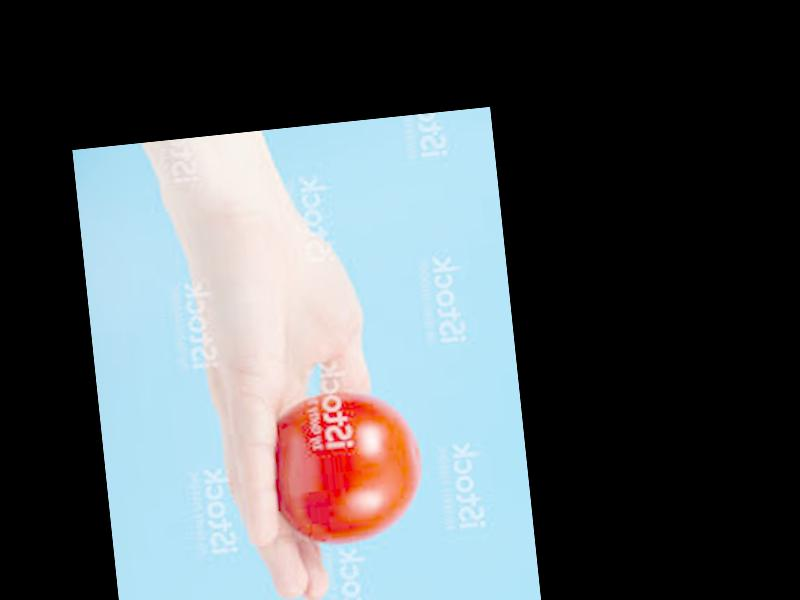Tomato: (268, 387, 425, 549)
